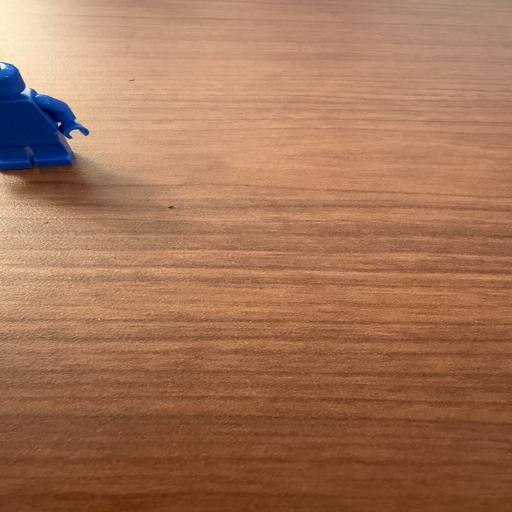blue_minifig: (0, 61, 90, 171)
